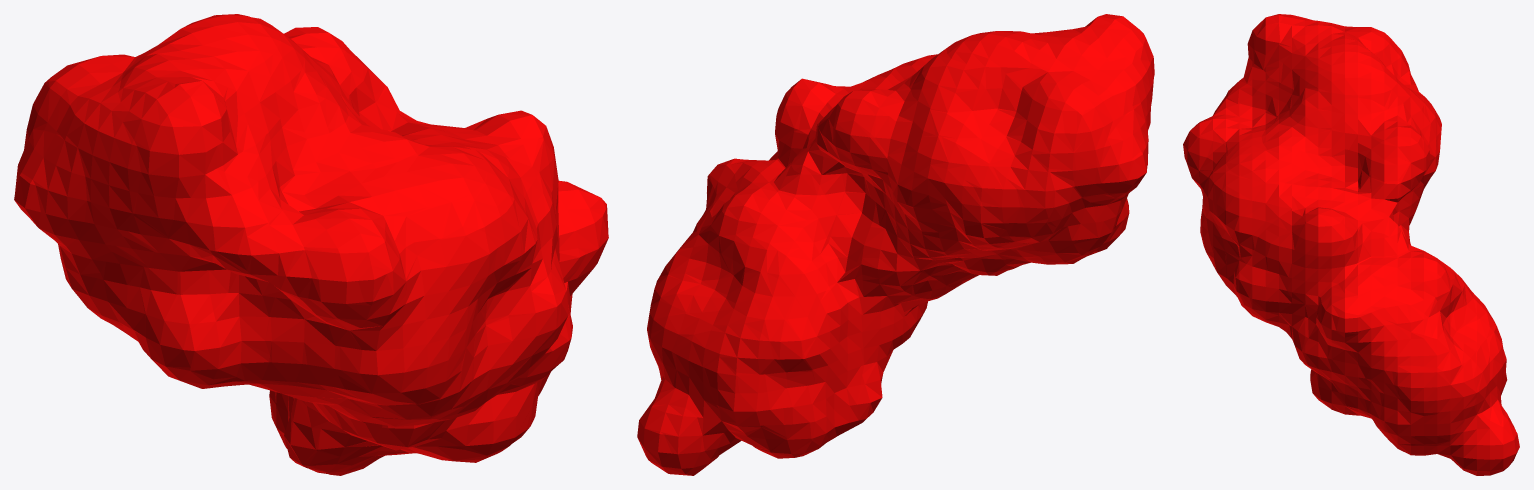
File: Secretogranin_III_coarse.dae
The picture shows the model from 3 angles, left to right: view 1: azimuth 30°, elevation 25°; view 2: azimuth 150°, elevation 25°; view 3: azimuth 270°, elevation 25°; orthographic projection. The views are drawn at different scales.
Visible parts, largest first — view 1: Secretogranin_III; view 2: Secretogranin_III; view 3: Secretogranin_III.
Boxes of the visible parts, x1,y1,x2,y2 form: Secretogranin_III: (14, 14, 608, 475); Secretogranin_III: (637, 14, 1154, 475); Secretogranin_III: (1183, 14, 1519, 475).
Size of the model in its own units: 79.74 by 75.4 by 67.23.
